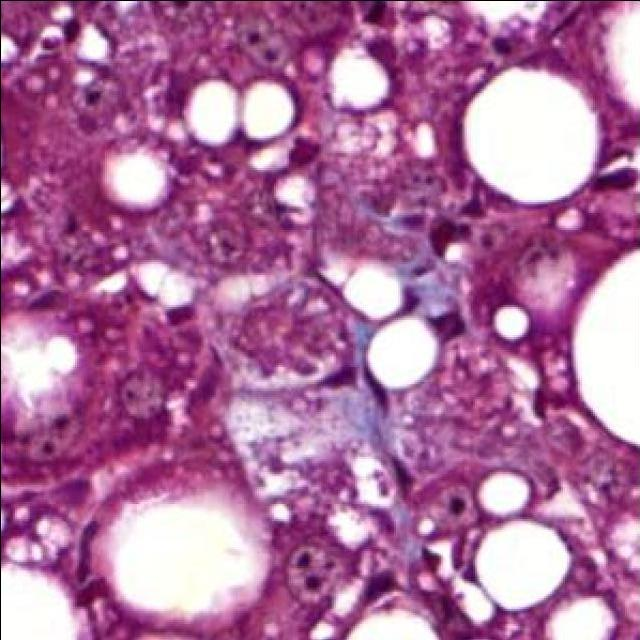steatosis: (109, 492, 267, 616), (462, 66, 599, 202), (572, 249, 640, 445), (475, 519, 571, 609), (185, 79, 296, 145), (0, 565, 76, 640), (366, 315, 439, 388), (104, 148, 168, 208), (329, 48, 389, 109), (546, 598, 615, 640), (346, 609, 438, 640), (479, 471, 529, 514), (494, 305, 529, 339)
